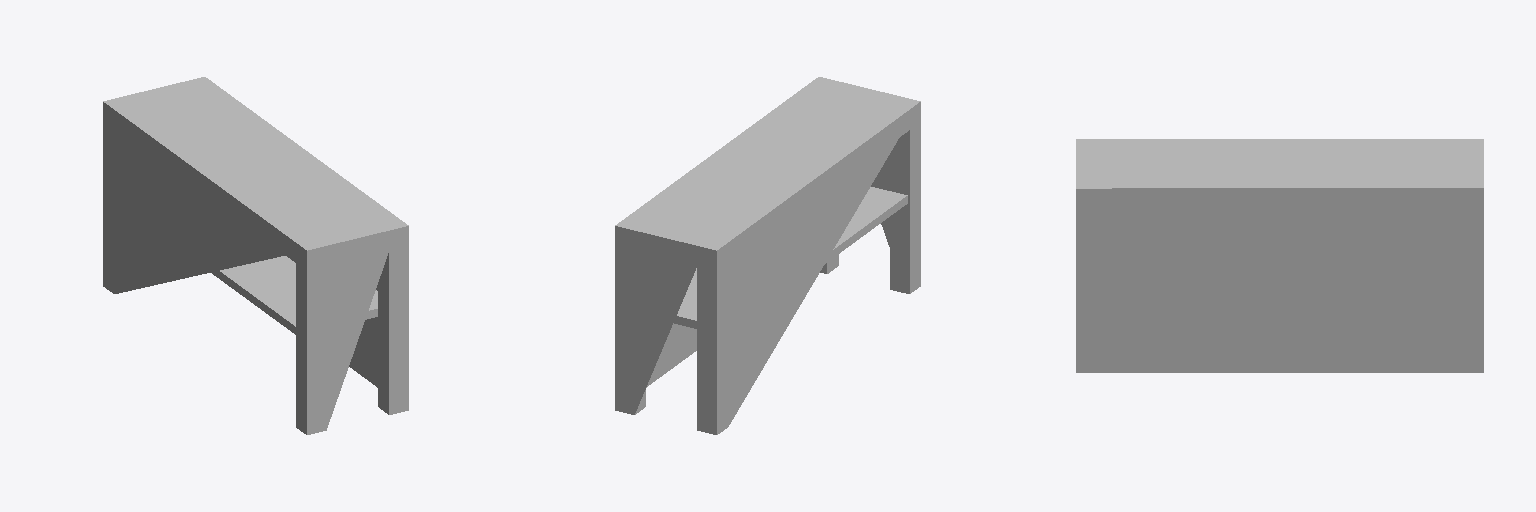
File: tv_bench.obj
The picture shows the model from 3 angles: view 1: azimuth 30°, elevation 25°; view 2: azimuth 150°, elevation 25°; view 3: azimuth 270°, elevation 25°; orthographic projection.
Visible parts, largest first — view 1: IKEA_LACK_Table_90x26x45_Cube.002; view 2: IKEA_LACK_Table_90x26x45_Cube.002; view 3: IKEA_LACK_Table_90x26x45_Cube.002.
Part boxes in pixels (x1,y1,x2,y2): IKEA_LACK_Table_90x26x45_Cube.002: (103, 77, 408, 434); IKEA_LACK_Table_90x26x45_Cube.002: (615, 77, 920, 434); IKEA_LACK_Table_90x26x45_Cube.002: (1076, 139, 1483, 372).
Size of the model in its own units: 1.3 by 2.25 by 4.5.